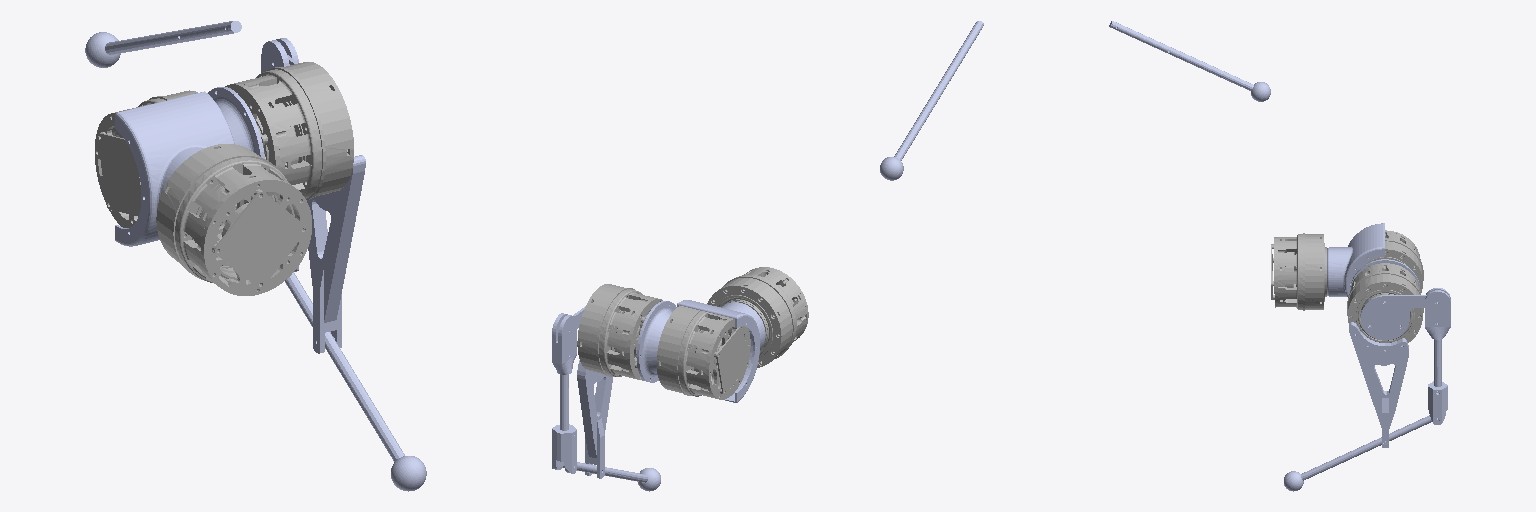
robot.urdf — titanleg:
<?xml version="1.0"?>
<robot
  name="titanleg" xmlns:xacro="http://ros.org/wiki/xacro">
  <link name="world" />
  <link
    name="hip_act">
    <inertial>
      <origin
        xyz="2.21389571031239E-06 0.0495282516972576 8.39857004455852E-05"
        rpy="0 0 0" />
      <mass
        value="0.459454762759501" />
      <inertia
        ixx="0.000423377170076193"
        ixy="2.8536168918093E-09"
        ixz="1.66725551719757E-07"
        iyy="0.000785413648057675"
        iyz="6.36782987510134E-07"
        izz="0.000423371017574567" />
    </inertial>
    <visual>
      <origin
        xyz="0 0 0"
        rpy="0 0 0" />
      <geometry>
        <mesh
          filename="package://titanleg_gazebo/meshes/Slider_design/hip_act.STL" />
      </geometry>
      <material
        name="">
        <color
          rgba="0.752941176470588 0.752941176470588 0.752941176470588 1" />
      </material>
    </visual>
    <collision>
      <origin
        xyz="0 0 0"
        rpy="0 0 0" />
      <geometry>
        <mesh
          filename="package://titanleg_gazebo/meshes/Slider_design/hip_act.STL" />
      </geometry>
    </collision>
  </link>
   <joint name="dummy_joint" type="fixed">
     <parent link="world"/>
     <child link="hip_act"/>
   </joint>
  <link
    name="c_bracket">
    <inertial>
      <origin
        xyz="-1.29530993199095E-05 0.111883797615742 0.000189172262231113"
        rpy="0 0 0" />
      <mass
        value="0.194139827709801" />
      <inertia
        ixx="0.000246157573305323"
        ixy="3.72214937106365E-08"
        ixz="-1.72161412318965E-09"
        iyy="0.000261154757408066"
        iyz="1.38657104435418E-07"
        izz="0.000187909477330244" />
    </inertial>
    <visual>
      <origin
        xyz="0 0 0"
        rpy="0 0 0" />
      <geometry>
        <mesh
          filename="package://titanleg_gazebo/meshes/Slider_design/c_bracket.STL" />
      </geometry>
      <material
        name="">
        <color
          rgba="0.792156862745098 0.819607843137255 0.933333333333333 1" />
      </material>
    </visual>
    <collision>
      <origin
        xyz="0 0 0"
        rpy="0 0 0" />
      <geometry>
        <mesh
          filename="package://titanleg_gazebo/meshes/Slider_design/c_bracket.STL" />
      </geometry>
    </collision>
  </link>
  <joint
    name="joint1"
    type="revolute">
    <origin
      xyz="0 0 0"
      rpy="0 0 0" />
    <parent
      link="hip_act" />
    <child
      link="c_bracket" />
    <axis
      xyz="0 1 0.0017503" />
    <limit
      lower="0"
      upper="0"
      effort="0"
      velocity="0" />
  </joint>
  <link
    name="actuator2">
    <inertial>
      <origin
        xyz="0.0105283228345422 0.173996856485628 0.000302488432371351"
        rpy="0 0 0" />
      <mass
        value="0.459454762835675" />
      <inertia
        ixx="0.000785414768017504"
        ixy="-4.19395763700288E-09"
        ixz="9.56126475950033E-10"
        iyy="0.000423518637700238"
        iyz="-7.95363557319889E-08"
        izz="0.000423228429945512" />
    </inertial>
    <visual>
      <origin
        xyz="0 0 0"
        rpy="0 0 0" />
      <geometry>
        <mesh
          filename="package://titanleg_gazebo/meshes/Slider_design/actuator2.STL" />
      </geometry>
      <material
        name="">
        <color
          rgba="0.752941176470588 0.752941176470588 0.752941176470588 1" />
      </material>
    </visual>
    <collision>
      <origin
        xyz="0 0 0"
        rpy="0 0 0" />
      <geometry>
        <mesh
          filename="package://titanleg_gazebo/meshes/Slider_design/actuator2.STL" />
      </geometry>
    </collision>
  </link>
  <joint
    name="joint2"
    type="fixed">
    <origin
      xyz="0 0 0"
      rpy="0 0 0" />
    <parent
      link="c_bracket" />
    <child
      link="actuator2" />
    <axis
      xyz="1 0 0" />
    <limit
      lower="0"
      upper="0"
      effort="0"
      velocity="0" />
  </joint>
  <link
    name="connecter">
    <inertial>
      <origin
        xyz="0.0627092553320165 0.173999733455809 0.000304560844391982"
        rpy="0 0 0" />
      <mass
        value="0.136163779993279" />
      <inertia
        ixx="0.000121813380866596"
        ixy="1.00079467679243E-20"
        ixz="-6.33249941812088E-20"
        iyy="6.99270541952128E-05"
        iyz="-1.21893335065814E-20"
        izz="6.99270541952126E-05" />
    </inertial>
    <visual>
      <origin
        xyz="0 0 0"
        rpy="0 0 0" />
      <geometry>
        <mesh
          filename="package://titanleg_gazebo/meshes/Slider_design/connecter.STL" />
      </geometry>
      <material
        name="">
        <color
          rgba="0.792156862745098 0.819607843137255 0.933333333333333 1" />
      </material>
    </visual>
    <collision>
      <origin
        xyz="0 0 0"
        rpy="0 0 0" />
      <geometry>
        <mesh
          filename="package://titanleg_gazebo/meshes/Slider_design/connecter.STL" />
      </geometry>
    </collision>
  </link>
  <joint
    name="joint3"
    type="revolute">
    <origin
      xyz="0 0 0"
      rpy="0 0 0" />
    <parent
      link="actuator2" />
    <child
      link="connecter" />
    <axis
      xyz="1 0 0" />
    <limit
      lower="0"
      upper="0"
      effort="0"
      velocity="0" />
  </joint>
  <link
    name="knee_actuator">
    <inertial>
      <origin
        xyz="0.128528322762866 0.173998136399464 0.000307615778510642"
        rpy="0 0 0" />
      <mass
        value="0.459454760456948" />
      <inertia
        ixx="0.000785414767905145"
        ixy="-1.38981028699211E-09"
        ixz="4.07330041056379E-09"
        iyy="0.000423233072333788"
        iyz="-8.66190720298778E-08"
        izz="0.000423513995230647" />
    </inertial>
    <visual>
      <origin
        xyz="0 0 0"
        rpy="0 0 0" />
      <geometry>
        <mesh
          filename="package://titanleg_gazebo/meshes/Slider_design/knee_actuator.STL" />
      </geometry>
      <material
        name="">
        <color
          rgba="0.752941176470588 0.752941176470588 0.752941176470588 1" />
      </material>
    </visual>
    <collision>
      <origin
        xyz="0 0 0"
        rpy="0 0 0" />
      <geometry>
        <mesh
          filename="package://titanleg_gazebo/meshes/Slider_design/knee_actuator.STL" />
      </geometry>
    </collision>
  </link>
  <joint
    name="joint4"
    type="fixed">
    <origin
      xyz="0 0 0"
      rpy="0 0 0" />
    <parent
      link="connecter" />
    <child
      link="knee_actuator" />
    <axis
      xyz="0 0 0" />
  </joint>
  <link
    name="slider_1">
    <inertial>
      <origin
        xyz="0.165994134888996 0.186648087099041 0.00675729634447775"
        rpy="0 0 0" />
      <mass
        value="0.0227075461559264" />
      <inertia
        ixx="2.96121867175513E-05"
        ixy="-1.68453705142746E-09"
        ixz="-8.59390268464536E-10"
        iyy="9.49452273118413E-06"
        iyz="-6.07578783365056E-06"
        izz="2.01781270923127E-05" />
    </inertial>
    <visual>
      <origin
        xyz="0 0 0"
        rpy="0 0 0" />
      <geometry>
        <mesh
          filename="package://titanleg_gazebo/meshes/Slider_design/slider_1.STL" />
      </geometry>
      <material
        name="">
        <color
          rgba="0.792156862745098 0.819607843137255 0.933333333333333 1" />
      </material>
    </visual>
    <collision>
      <origin
        xyz="0 0 0"
        rpy="0 0 0" />
      <geometry>
        <mesh
          filename="package://titanleg_gazebo/meshes/Slider_design/slider_1.STL" />
      </geometry>
    </collision>
  </link>
  <joint
    name="joint5"
    type="revolute">
    <origin
      xyz="0 0 0"
      rpy="0 0 0" />
    <parent
      link="knee_actuator" />
    <child
      link="slider_1" />
    <axis
      xyz="1 0 0" />
    <limit
      lower="0"
      upper="0"
      effort="0"
      velocity="0" />
  </joint>
  <link
    name="slider_2">
    <inertial>
      <origin
        xyz="0.165987300398336 0.253951550337511 0.00751531450347266"
        rpy="0 0 0" />
      <mass
        value="0.0349242700746139" />
      <inertia
        ixx="1.85733821263333E-05"
        ixy="-2.18326723588575E-11"
        ixz="2.30082432360936E-09"
        iyy="1.50315683562167E-05"
        iyz="8.16472872166189E-11"
        izz="5.08893328633733E-06" />
    </inertial>
    <visual>
      <origin
        xyz="0 0 0"
        rpy="0 0 0" />
      <geometry>
        <mesh
          filename="package://titanleg_gazebo/meshes/Slider_design/slider_2.STL" />
      </geometry>
      <material
        name="">
        <color
          rgba="0.792156862745098 0.819607843137255 0.933333333333333 1" />
      </material>
    </visual>
    <collision>
      <origin
        xyz="0 0 0"
        rpy="0 0 0" />
      <geometry>
        <mesh
          filename="package://titanleg_gazebo/meshes/Slider_design/slider_2.STL" />
      </geometry>
    </collision>
  </link>
  <joint
    name="joint6"
    type="revolute">
    <origin
      xyz="0 0 0"
      rpy="0 0 0" />
    <parent
      link="slider_1" />
    <child
      link="slider_2" />
    <axis
      xyz="-1 0 0" />
    <limit
      lower="0"
      upper="0"
      effort="0"
      velocity="0" />
  </joint>
  <link
    name="driver_rod">
    <inertial>
      <origin
        xyz="0.166000000001709 0.253951476290993 -0.0627717062474898"
        rpy="0 0 0" />
      <mass
        value="0.0124305545034591" />
      <inertia
        ixx="1.50372757561864E-05"
        ixy="-5.88975510889749E-13"
        ixz="-5.61932673548693E-13"
        iyy="1.50354065499985E-05"
        iyz="3.08428718897107E-13"
        izz="2.06425194655713E-07" />
    </inertial>
    <visual>
      <origin
        xyz="0 0 0"
        rpy="0 0 0" />
      <geometry>
        <mesh
          filename="package://titanleg_gazebo/meshes/Slider_design/driver_rod.STL" />
      </geometry>
      <material
        name="">
        <color
          rgba="0.792156862745098 0.819607843137255 0.933333333333333 1" />
      </material>
    </visual>
    <collision>
      <origin
        xyz="0 0 0"
        rpy="0 0 0" />
      <geometry>
        <mesh
          filename="package://titanleg_gazebo/meshes/Slider_design/driver_rod.STL" />
      </geometry>
    </collision>
  </link>
  <joint
    name="joint7"
    type="fixed">
    <origin
      xyz="0 0 0"
      rpy="0 0 0" />
    <parent
      link="slider_2" />
    <child
      link="driver_rod" />
    <axis
      xyz="0 0 0" />
  </joint>
  <link
    name="slider_3">
    <inertial>
      <origin
        xyz="0.165916960910601 0.253951476273331 -0.139431905251948"
        rpy="0 0 0" />
      <mass
        value="0.0320888110192499" />
      <inertia
        ixx="8.94036749817046E-06"
        ixy="3.07594929041129E-14"
        ixz="2.65157266553481E-08"
        iyy="9.58626733491596E-06"
        iyz="-1.06606465438949E-13"
        izz="3.80755374502946E-06" />
    </inertial>
    <visual>
      <origin
        xyz="0 0 0"
        rpy="0 0 0" />
      <geometry>
        <mesh
          filename="package://titanleg_gazebo/meshes/Slider_design/slider_3.STL" />
      </geometry>
      <material
        name="">
        <color
          rgba="0.792156862745098 0.819607843137255 0.933333333333333 1" />
      </material>
    </visual>
    <collision>
      <origin
        xyz="0 0 0"
        rpy="0 0 0" />
      <geometry>
        <mesh
          filename="package://titanleg_gazebo/meshes/Slider_design/slider_3.STL" />
      </geometry>
    </collision>
  </link>
  <joint
    name="joint8"
    type="fixed">
    <origin
      xyz="0 0 0"
      rpy="0 0 0" />
    <parent
      link="driver_rod" />
    <child
      link="slider_3" />
    <axis
      xyz="0 0 0" />
  </joint>
  <link
    name="main_rod">
    <inertial>
      <origin
        xyz="0.166600000383349 0.105771688524635 -0.238325037022689"
        rpy="0 0 0" />
      <mass
        value="0.0383440611600698" />
      <inertia
        ixx="0.000124089295700753"
        ixy="-1.25917589104066E-12"
        ixz="-5.27381427060724E-14"
        iyy="2.66871738526395E-05"
        iyz="-4.91889317270234E-05"
        izz="9.92464413590262E-05" />
    </inertial>
    <visual>
      <origin
        xyz="0 0 0"
        rpy="0 0 0" />
      <geometry>
        <mesh
          filename="package://titanleg_gazebo/meshes/Slider_design/main_rod.STL" />
      </geometry>
      <material
        name="">
        <color
          rgba="0.792156862745098 0.819607843137255 0.933333333333333 1" />
      </material>
    </visual>
    <collision>
      <origin
        xyz="0 0 0"
        rpy="0 0 0" />
      <geometry>
        <mesh
          filename="package://titanleg_gazebo/meshes/Slider_design/main_rod.STL" />
      </geometry>
    </collision>
  </link>
  <joint
    name="joint9"
    type="revolute">
    <origin
      xyz="0 0 0"
      rpy="0 0 0" />
    <parent
      link="slider_3" />
    <child
      link="main_rod" />
    <axis
      xyz="-1 0 0" />
    <limit
      lower="0"
      upper="0"
      effort="0"
      velocity="0" />
  </joint>
  <link
    name="front_leg">
    <inertial>
      <origin
        xyz="0.166327568111374 0.168789600251866 -0.0988712651558407"
        rpy="0 0 0" />
      <mass
        value="0.0933588484666221" />
      <inertia
        ixx="0.000261206736608852"
        ixy="-4.13811827810724E-08"
        ixz="5.2684630530139E-07"
        iyy="0.000221491792508136"
        iyz="2.76266590939645E-05"
        izz="4.31299957973145E-05" />
    </inertial>
    <visual>
      <origin
        xyz="0 0 0"
        rpy="0 0 0" />
      <geometry>
        <mesh
          filename="package://titanleg_gazebo/meshes/Slider_design/front_leg.STL" />
      </geometry>
      <material
        name="">
        <color
          rgba="0.792156862745098 0.819607843137255 0.933333333333333 1" />
      </material>
    </visual>
    <collision>
      <origin
        xyz="0 0 0"
        rpy="0 0 0" />
      <geometry>
        <mesh
          filename="package://titanleg_gazebo/meshes/Slider_design/front_leg.STL" />
      </geometry>
    </collision>
  </link>
  <joint
    name="joint10"
    type="fixed">
    <origin
      xyz="0 0 0"
      rpy="0 0 0" />
    <parent
      link="knee_actuator" />
    <child
      link="front_leg" />
    <axis
      xyz="0 0 0" />
  </joint>
  <link
    name="mainrod">
    <inertial>
      <origin
        xyz="0.166600000383349 0.105771688524635 -0.238325037022689"
        rpy="0 0 0" />
      <mass
        value="0.0383440611600698" />
      <inertia
        ixx="0.000124089295700753"
        ixy="-1.25917589104066E-12"
        ixz="-5.27381427060724E-14"
        iyy="2.66871738526395E-05"
        iyz="-4.91889317270234E-05"
        izz="9.92464413590262E-05" />
    </inertial>
    <visual>
      <origin
        xyz="0 0 0"
        rpy="0 0 0" />
      <geometry>
        <mesh
          filename="package://titanleg_gazebo/meshes/Slider_design/mainrod.STL" />
      </geometry>
      <material
        name="">
        <color
          rgba="0.792156862745098 0.819607843137255 0.933333333333333 1" />
      </material>
    </visual>
    <collision>
      <origin
        xyz="0 0 0"
        rpy="0 0 0" />
      <geometry>
        <mesh
          filename="package://titanleg_gazebo/meshes/Slider_design/mainrod.STL" />
      </geometry>
    </collision>
  </link>
  <joint
    name="joint11"
    type="revolute">
    <origin
      xyz="0 0 0"
      rpy="0 0 0" />
    <parent
      link="front_leg" />
    <child
      link="mainrod" />
    <axis
      xyz="0 1 0.0017503" />
    <limit
      lower="0"
      upper="0"
      effort="0"
      velocity="0" />
  </joint>
  </robot>

--- What the picture shows (computed from the rendered views, not written in the file) ---
The picture shows the robot from 3 angles, left to right: view 1: azimuth 30°, elevation 25°; view 2: azimuth 150°, elevation 25°; view 3: azimuth 270°, elevation 25°; orthographic projection.
Robot: titanleg — 13 links, 12 joints (6 revolute, 6 fixed); root link world; default pose: all joints at 0.
Visible links, largest first — view 1: hip_act, knee_actuator, c_bracket, front_leg, actuator2, mainrod, main_rod, connecter, slider_2; view 2: actuator2, knee_actuator, hip_act, front_leg, c_bracket, main_rod, connecter, slider_2, slider_3, mainrod; view 3: hip_act, front_leg, knee_actuator, c_bracket, slider_1, main_rod, mainrod, slider_2, actuator2, slider_3.
Link boxes in pixels (x1,y1,x2,y2): hip_act: [156, 144, 311, 295]; knee_actuator: [225, 62, 353, 199]; c_bracket: [115, 91, 234, 246]; front_leg: [307, 155, 365, 353]; actuator2: [95, 90, 197, 227]; mainrod: [285, 272, 426, 491]; main_rod: [85, 21, 241, 67]; connecter: [208, 87, 264, 158]; slider_2: [261, 38, 298, 72]; actuator2: [657, 306, 750, 399]; knee_actuator: [577, 284, 662, 380]; hip_act: [707, 267, 808, 367]; front_leg: [577, 360, 612, 478]; c_bracket: [677, 300, 765, 402]; main_rod: [880, 21, 983, 180]; connecter: [636, 301, 676, 382]; slider_2: [552, 313, 576, 374]; slider_3: [552, 424, 576, 473]; mainrod: [557, 461, 660, 491]; hip_act: [1271, 233, 1326, 310]; front_leg: [1349, 322, 1408, 447]; knee_actuator: [1347, 263, 1423, 342]; c_bracket: [1327, 223, 1384, 296]; slider_1: [1361, 295, 1437, 340]; main_rod: [1109, 21, 1270, 101]; mainrod: [1284, 415, 1431, 491]; slider_2: [1425, 288, 1450, 339]; actuator2: [1355, 230, 1423, 292]; slider_3: [1428, 381, 1447, 424].
Bounding box of the posed robot: 0.3635 × 0.5211 × 0.6352 m (x, y, z).
Meshes: 12 distinct files referenced, 12 mesh visuals loaded (12 binary STL).